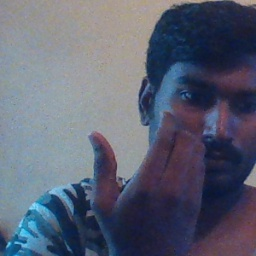U: (82, 109, 213, 245)
